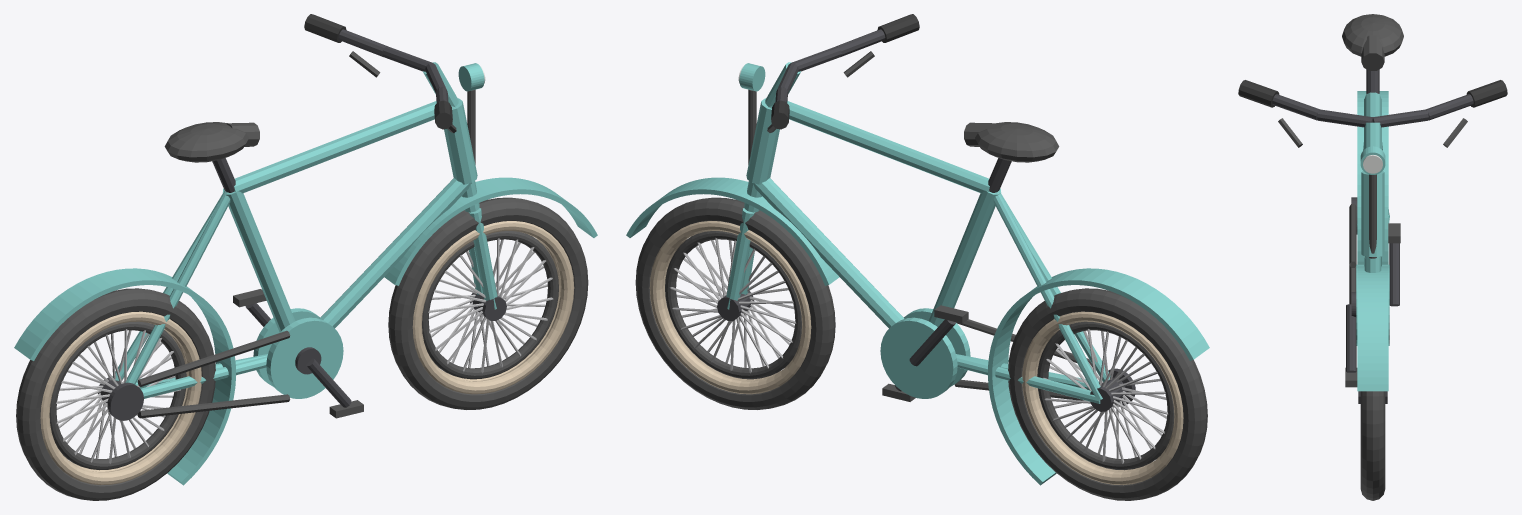
The model's file is 07-bicycle.glb.
3 views of the same model, side by side, from view 1: azimuth 30°, elevation 25°; view 2: azimuth 150°, elevation 25°; view 3: azimuth 270°, elevation 25° (orthographic). The views are drawn at different scales.
Visible parts, largest first — view 1: FrontWheel_Tire, RearWheel_Tire, FenderRear, FrontWheel_SideR, RearWheel_SideR, ChainguardR, FrontWheel_Rim, TopTube, RearWheel_Rim, DownTube, FenderFront, SeatTube (+12 smaller); view 2: RearWheel_Tire, FrontWheel_Tire, FenderRear, FrontWheel_SideL, RearWheel_SideL, ChainguardL, FrontWheel_Rim, RearWheel_Rim, TopTube, DownTube, FenderFront, Saddle (+9 smaller); view 3: FenderFront, FrontWheel_Tire, FenderRear, Saddle, HeadTube, CrankL, CrankR, SaddleNose, GripL, GripR, BarMidL, BarMidR (+9 smaller).
Boxes of the visible parts, x1,y1,x2,y2 form: FrontWheel_Tire: [388, 197, 588, 409]; RearWheel_Tire: [16, 288, 215, 500]; FenderRear: [14, 268, 235, 485]; FrontWheel_SideR: [412, 221, 574, 394]; RearWheel_SideR: [40, 311, 201, 485]; ChainguardR: [266, 317, 343, 398]; FrontWheel_Rim: [422, 231, 558, 379]; TopTube: [234, 101, 454, 193]; RearWheel_Rim: [49, 321, 186, 470]; DownTube: [319, 178, 471, 328]; FenderFront: [384, 177, 597, 285]; SeatTube: [222, 188, 295, 332]; RearWheel_Tire: [1008, 288, 1207, 500]; FrontWheel_Tire: [635, 197, 835, 409]; FenderRear: [988, 268, 1209, 485]; FrontWheel_SideL: [649, 221, 811, 394]; RearWheel_SideL: [1022, 311, 1183, 485]; ChainguardL: [880, 317, 957, 398]; FrontWheel_Rim: [665, 231, 801, 379]; RearWheel_Rim: [1037, 321, 1174, 470]; TopTube: [769, 101, 989, 193]; DownTube: [752, 178, 904, 328]; FenderFront: [626, 177, 839, 285]; Saddle: [975, 122, 1059, 162]; FenderFront: [1357, 266, 1388, 391]; FrontWheel_Tire: [1360, 391, 1385, 500]; FenderRear: [1357, 91, 1388, 264]; Saddle: [1342, 14, 1403, 56]; HeadTube: [1361, 171, 1384, 256]; CrankL: [1389, 243, 1399, 306]; CrankR: [1346, 304, 1356, 372]; SaddleNose: [1361, 35, 1384, 70]; GripL: [1466, 80, 1507, 107]; GripR: [1238, 80, 1279, 107]; BarMidL: [1373, 109, 1428, 127]; BarMidR: [1317, 109, 1372, 127].
Bounding box in the file's own units: 1.54 × 0.9508 × 0.6482.
